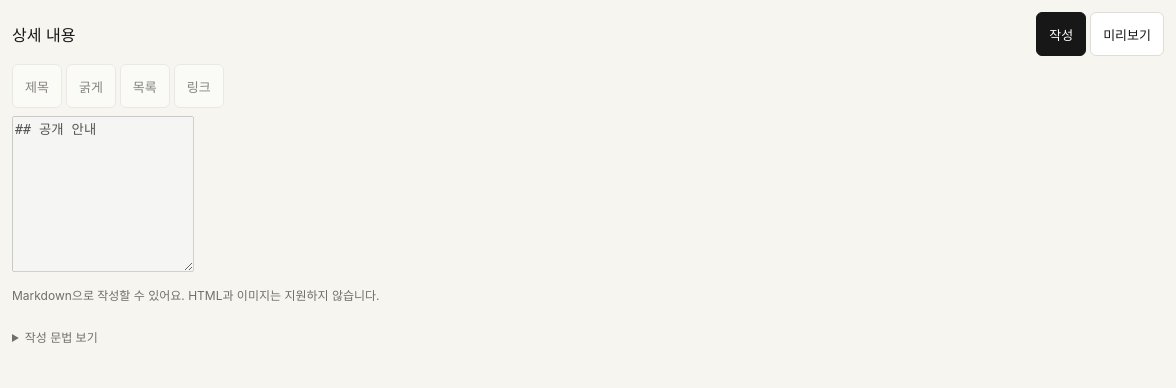
Test: MarkdownEditor › 공개된 행사는 서식 변경이 불가하지만 미리보기는 가능하다
Expected: the text box labelled "상세 내용" is disabled, [12,116,194,272]
Expected: the button "제목" is disabled, [12,64,62,108]
Click the button "미리보기" at (1127, 34), box [1090,12,1164,56]
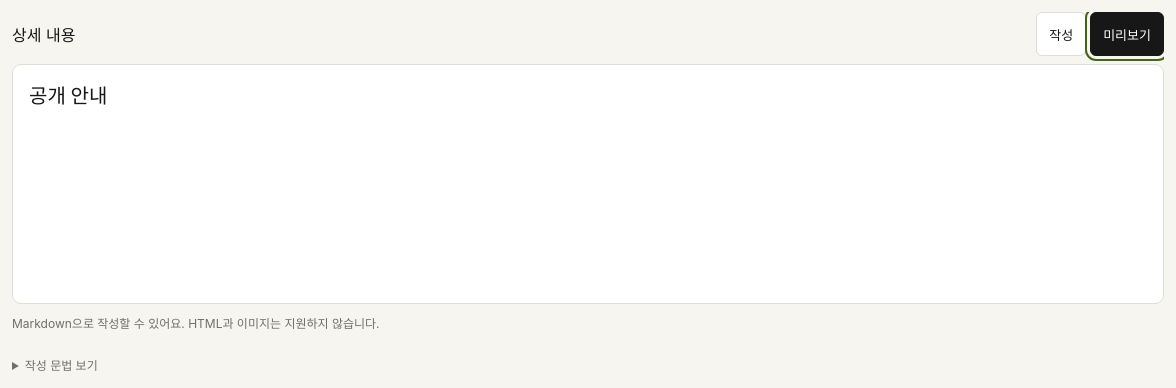
Expected: the heading "공개 안내" is shown, [29,84,107,108]
